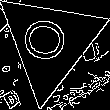O_E: (23, 17, 77, 68)
